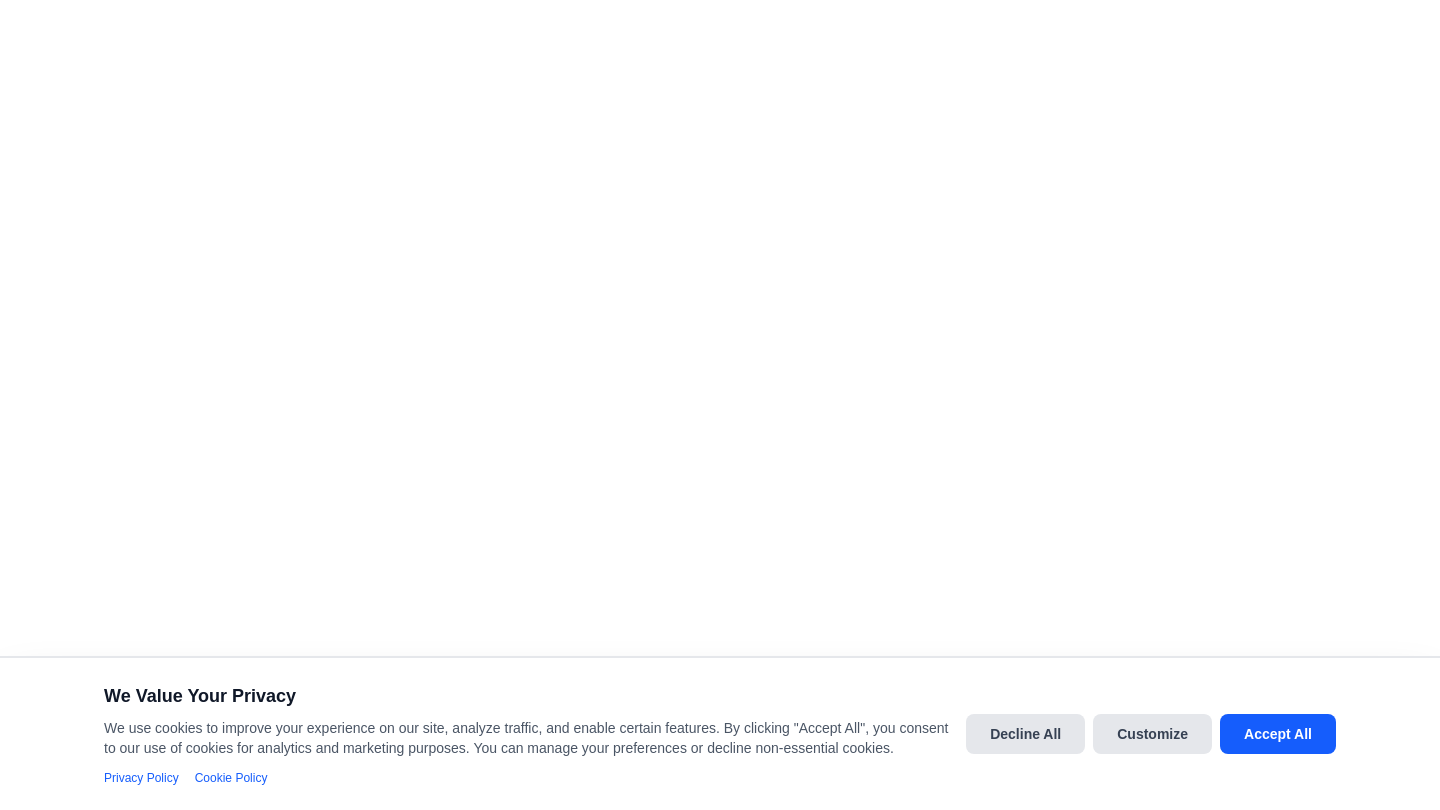
Test: CookieConsent component › should open preferences modal when Customize is clicked
What coordinates should you click on to do the following:
click the button "Customize"
I would click on:
 (1153, 734)
Its box is [1093,714,1212,754].
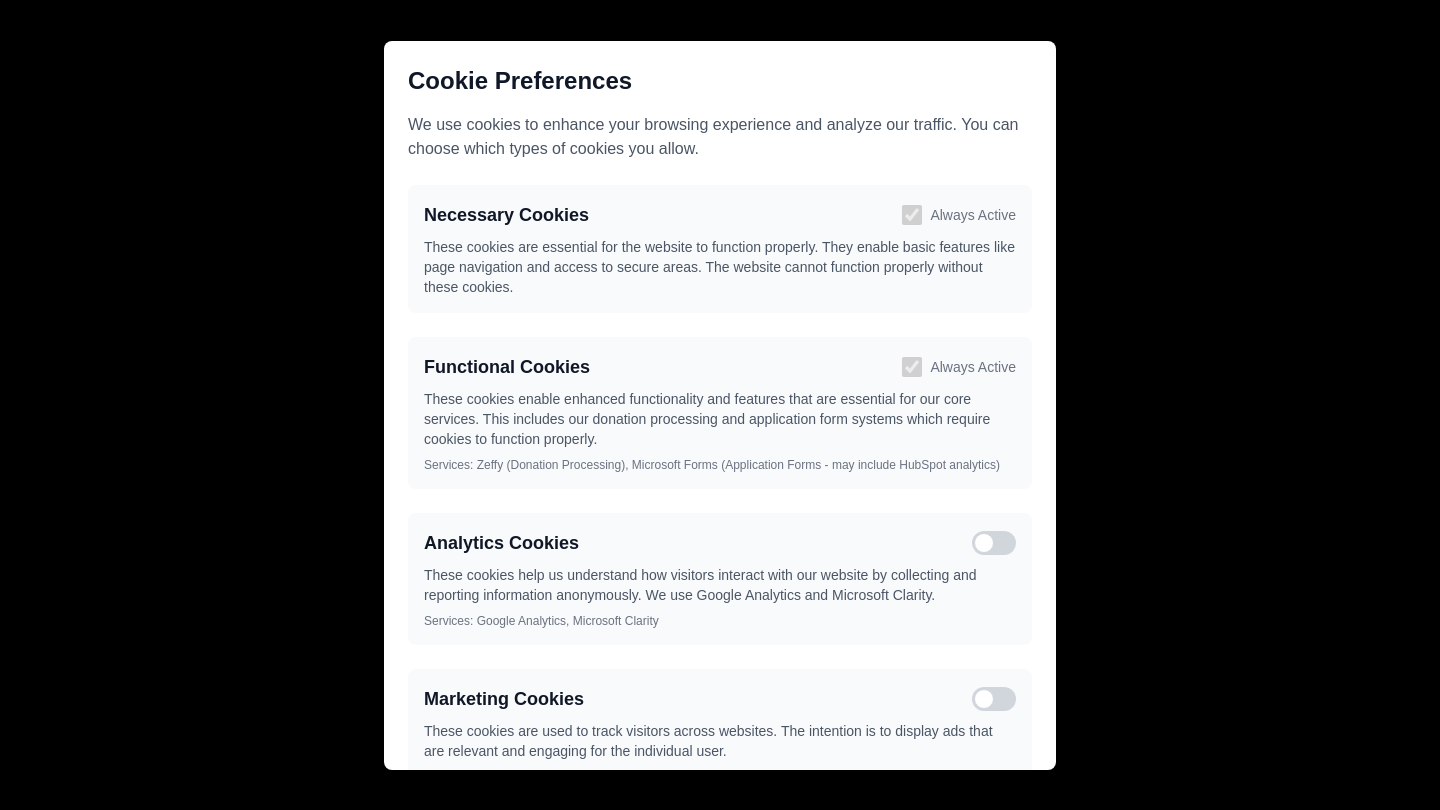
Result: the heading "Cookie Preferences" is shown at [408,66,632,94]
